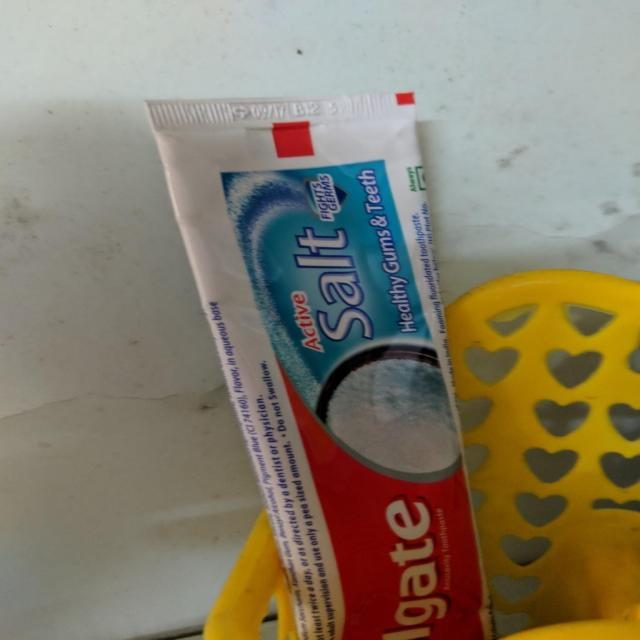Toothpaste: (130, 89, 531, 640)
